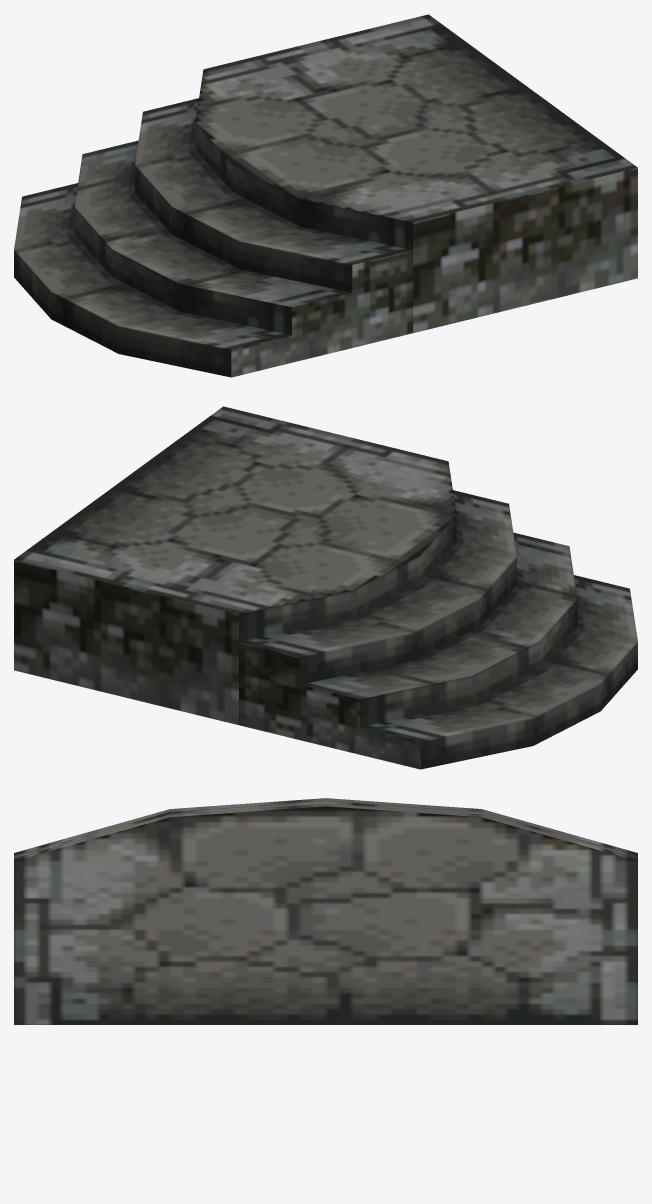
Rendered from EnvBdgMD_SnowHouse_A_Outdoor_House_Base_Stairs.FBX.
3 views of the same model, one above another, from view 1: azimuth 30°, elevation 25°; view 2: azimuth 150°, elevation 25°; view 3: azimuth 270°, elevation 25° (orthographic). The views are drawn at different scales.
Parts seen in each view (by area): view 1: EnvBdgMD_SnowHouse_A_Outdoor_House_Base_Stairs; view 2: EnvBdgMD_SnowHouse_A_Outdoor_House_Base_Stairs; view 3: EnvBdgMD_SnowHouse_A_Outdoor_House_Base_Stairs.
Boxes of the visible parts, box(x1,y1,x2,y2) form: EnvBdgMD_SnowHouse_A_Outdoor_House_Base_Stairs: box(14, 14, 637, 377); EnvBdgMD_SnowHouse_A_Outdoor_House_Base_Stairs: box(14, 406, 637, 769); EnvBdgMD_SnowHouse_A_Outdoor_House_Base_Stairs: box(14, 798, 637, 1024).
Bounding box in the file's own units: 319 × 70 × 240.
Materials: 1 (1 with a texture image).
